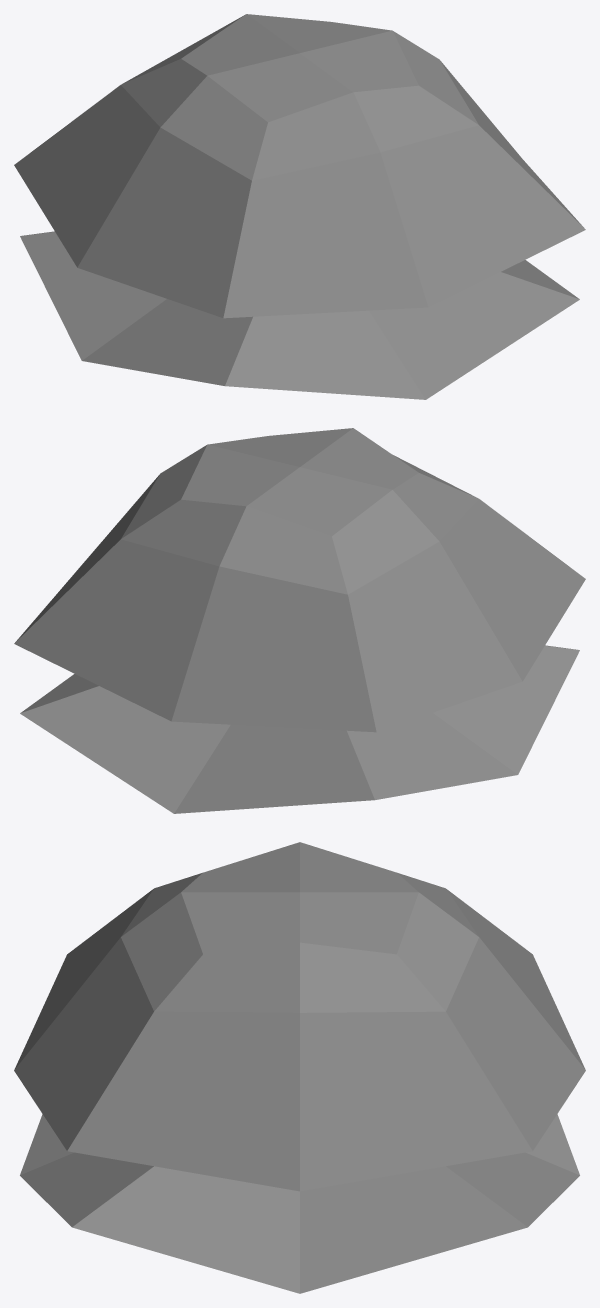
File: volcano rock2.obj
The picture shows the model from 3 angles, top to bottom: view 1: azimuth 30°, elevation 25°; view 2: azimuth 150°, elevation 25°; view 3: azimuth 270°, elevation 25°; orthographic projection. The views are drawn at different scales.
Visible parts, largest first — view 1: Cube; view 2: Cube; view 3: Cube.
Part boxes in pixels (box(x1,y1,x2,y2)): Cube: box(14, 14, 585, 399); Cube: box(14, 428, 585, 813); Cube: box(14, 842, 585, 1293).
Bounding box in the file's own units: 5.91 × 3.23 × 5.91.
